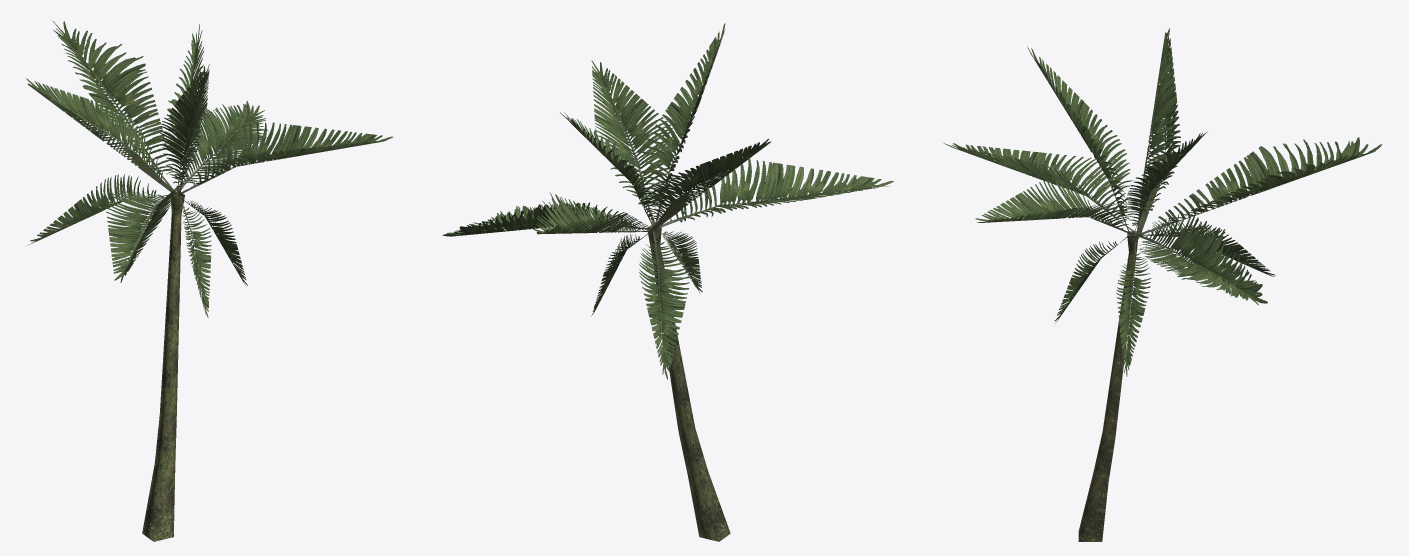
File: ever_palmtree_fngi_l1.fbx
3 views of the same model, side by side, from view 1: azimuth 30°, elevation 25°; view 2: azimuth 150°, elevation 25°; view 3: azimuth 270°, elevation 25° (orthographic). The views are drawn at different scales.
Parts seen in each view (by area): view 1: mesh_node; view 2: mesh_node; view 3: mesh_node.
Boxes of the visible parts, x1=… form: mesh_node: x1=26, y1=21, x2=392, y2=541; mesh_node: x1=442, y1=23, x2=893, y2=541; mesh_node: x1=943, y1=28, x2=1381, y2=541.
Size of the model in its own units: 7.92 by 11.97 by 9.79.
Materials: 2 (2 with a texture image).
